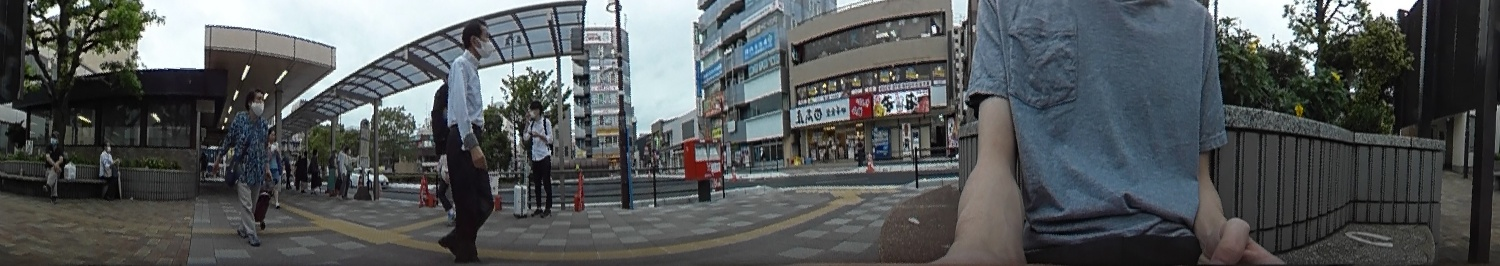difficult_person: (267, 127, 279, 206), (339, 147, 356, 197), (325, 148, 341, 196), (279, 152, 293, 190), (297, 151, 310, 191), (309, 147, 320, 187), (853, 137, 867, 166), (198, 149, 209, 184)
person: (441, 19, 495, 260), (228, 86, 265, 243), (524, 97, 555, 218), (44, 131, 62, 201), (97, 140, 116, 199)
